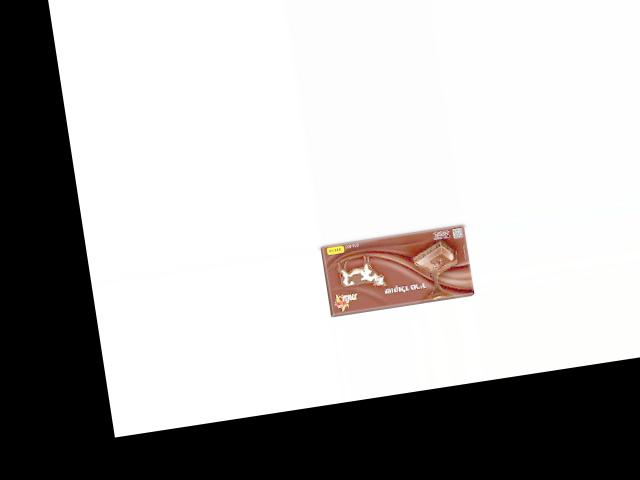chocolate: (316, 224, 473, 318)
